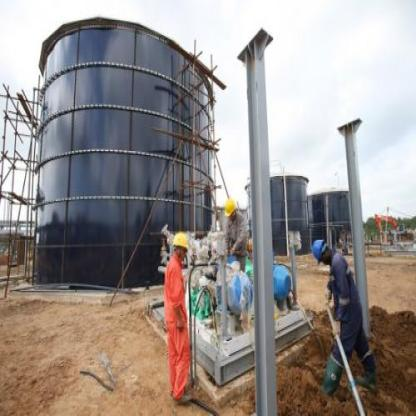helmet: (172, 227, 189, 265), (312, 238, 333, 268), (225, 197, 236, 221)
